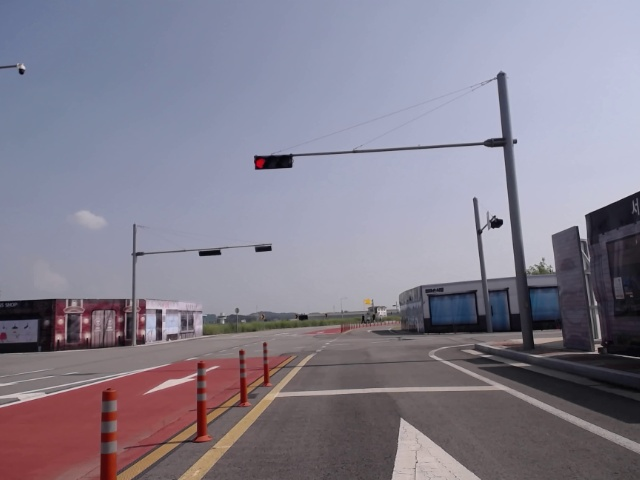red_3: (254, 155, 293, 169)
